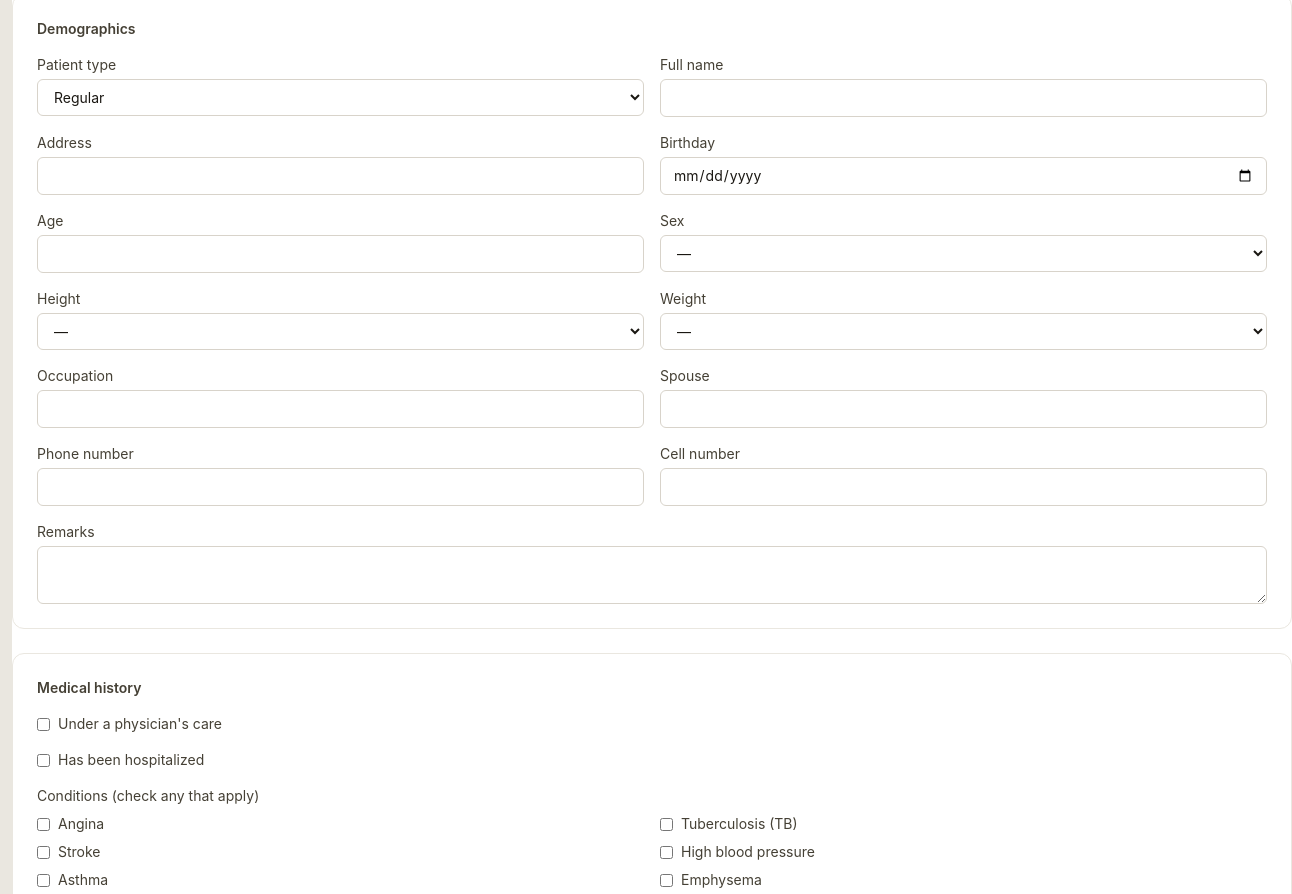
Test: PatientForm › keeps what was typed when validation fails
This screenshot has width=1292, height=894.
Step 1. Type "Nurse" into the field labelled "Occupation" → [340, 409], box [37,390,644,428]
(page scrolled)
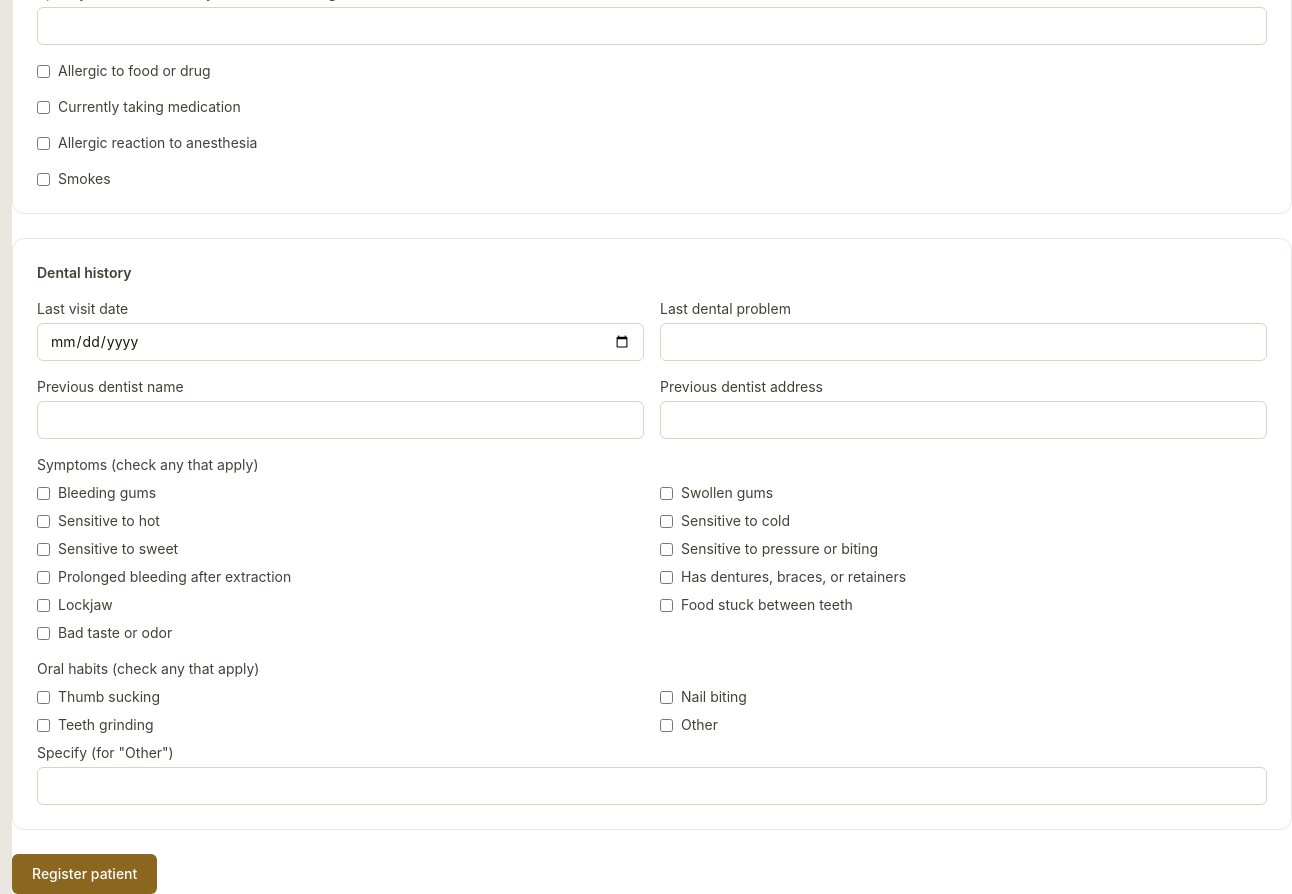
Step 2. Click the button "Register patient" → [85, 874], box [12,854,157,893]
(page scrolled)
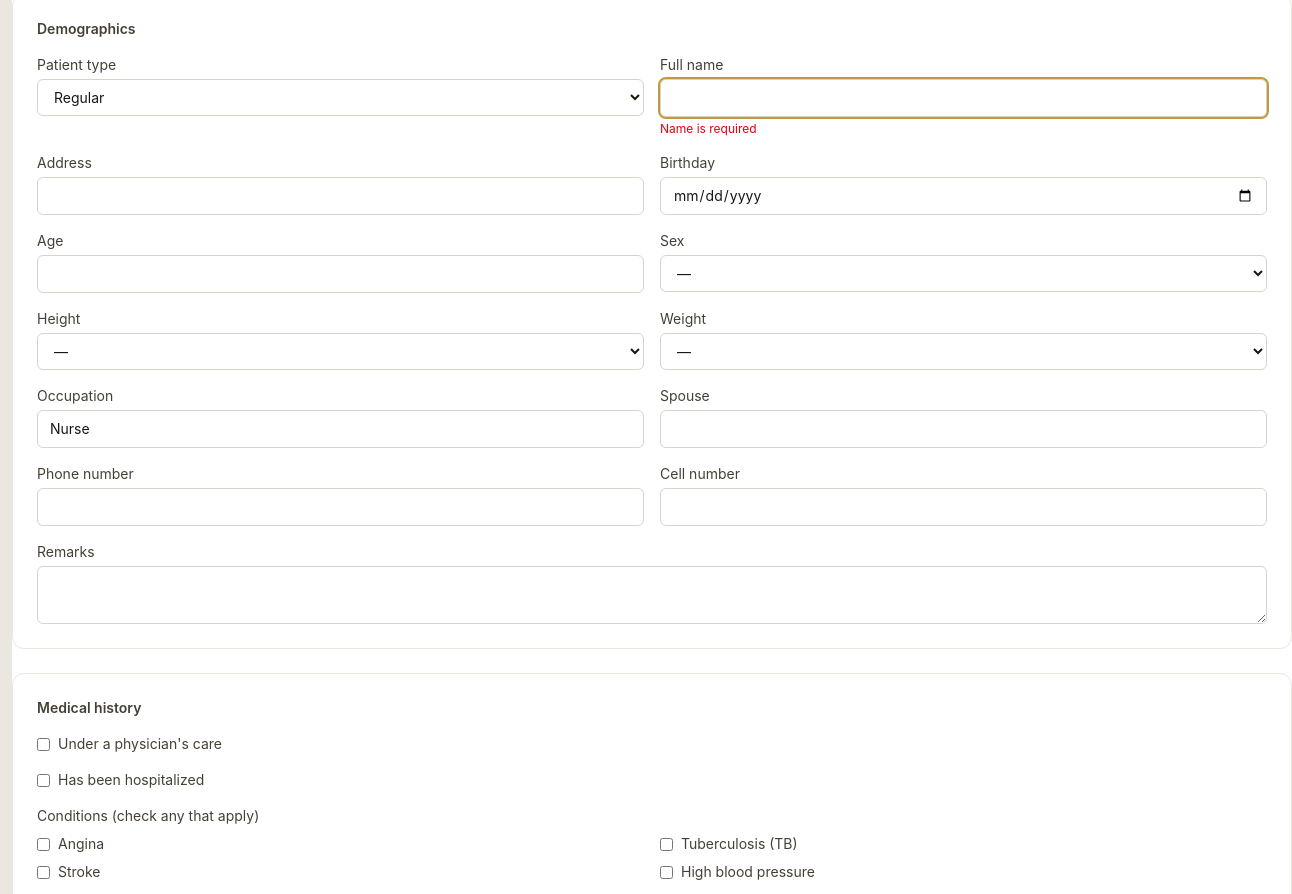
Check: the text "Name is required" is shown, box [660,121,757,136]
